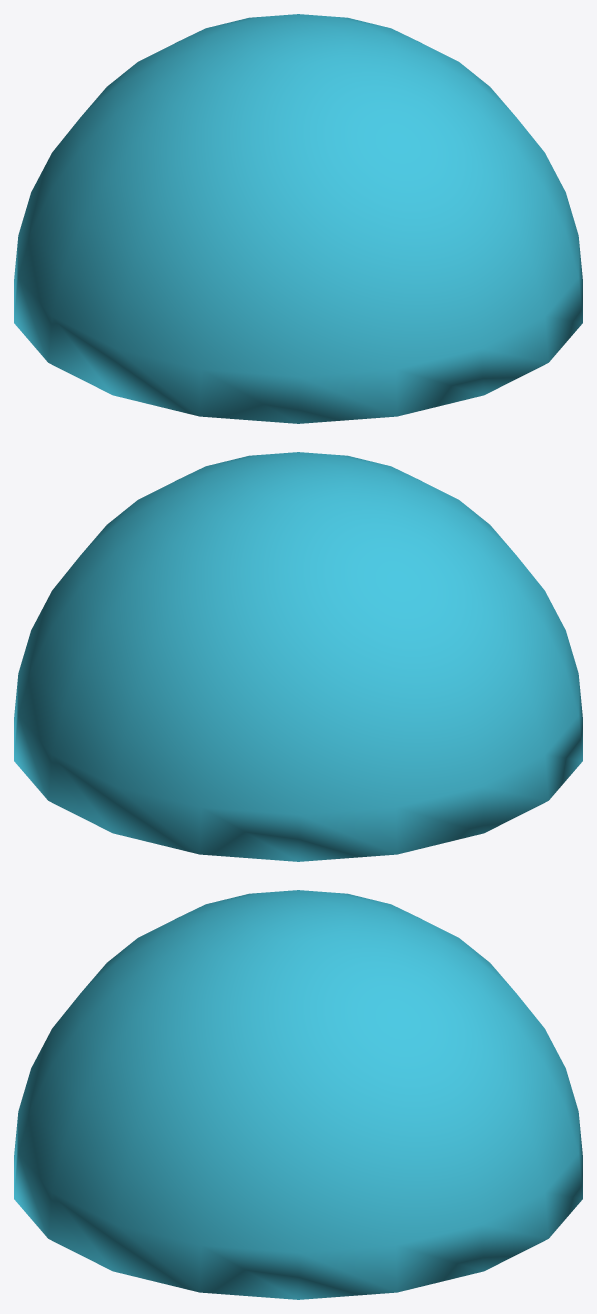
File: merry.dae
3 renders of one model, top to bottom at view 1: azimuth 30°, elevation 25°; view 2: azimuth 150°, elevation 25°; view 3: azimuth 270°, elevation 25°, orthographic.
Visible parts, largest first — view 1: globe; view 2: globe; view 3: globe.
Boxes of the visible parts, left/top/right/bottom form: globe: left=14, top=14, right=582, bottom=423; globe: left=14, top=452, right=582, bottom=861; globe: left=14, top=890, right=582, bottom=1299.
Bounding box in the file's own units: 330 × 165 × 325.
